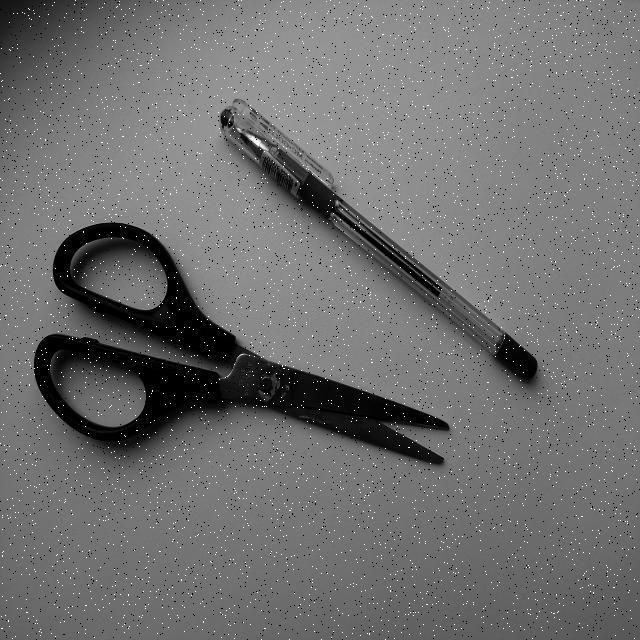scissors: (10, 188, 461, 515)
